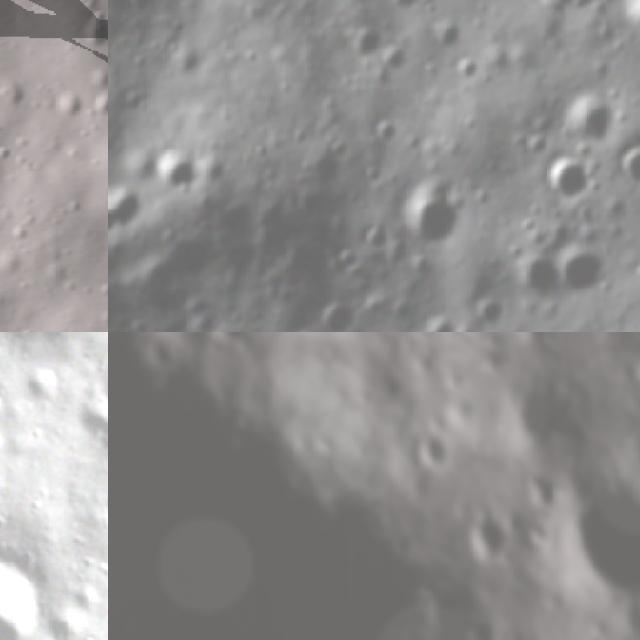crater: (563, 469, 640, 628), (0, 507, 66, 640), (395, 173, 473, 261), (497, 368, 571, 456), (550, 84, 629, 158), (542, 236, 626, 303), (532, 144, 601, 212), (142, 145, 212, 209), (108, 169, 154, 256), (511, 248, 570, 312), (466, 503, 522, 569), (339, 15, 396, 69), (414, 12, 471, 64), (459, 281, 511, 332), (413, 431, 462, 477), (318, 293, 369, 332), (610, 134, 640, 198), (415, 306, 475, 332), (383, 0, 432, 23)
